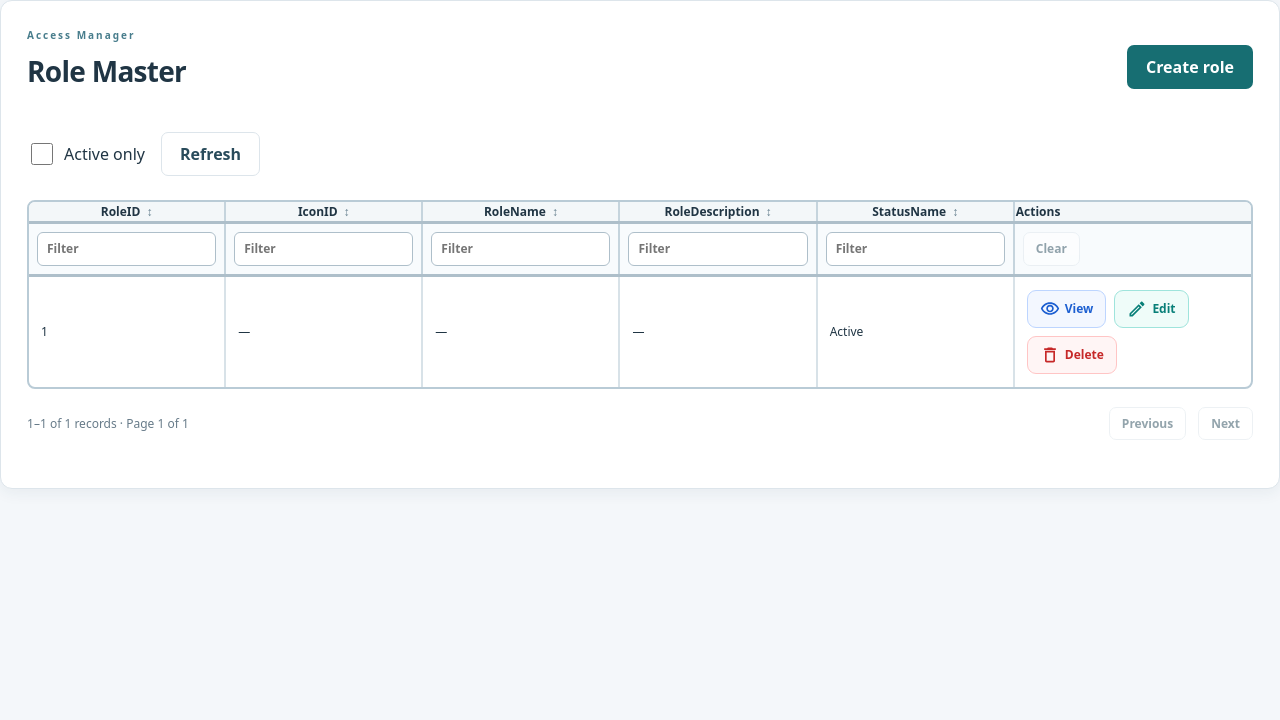
Test case: opens row details and dismisses the role popup
This screenshot has width=1280, height=720.
Click the button with aria-label "View role" at (1067, 308), box top-left (1027, 290), bottom-right (1106, 328)
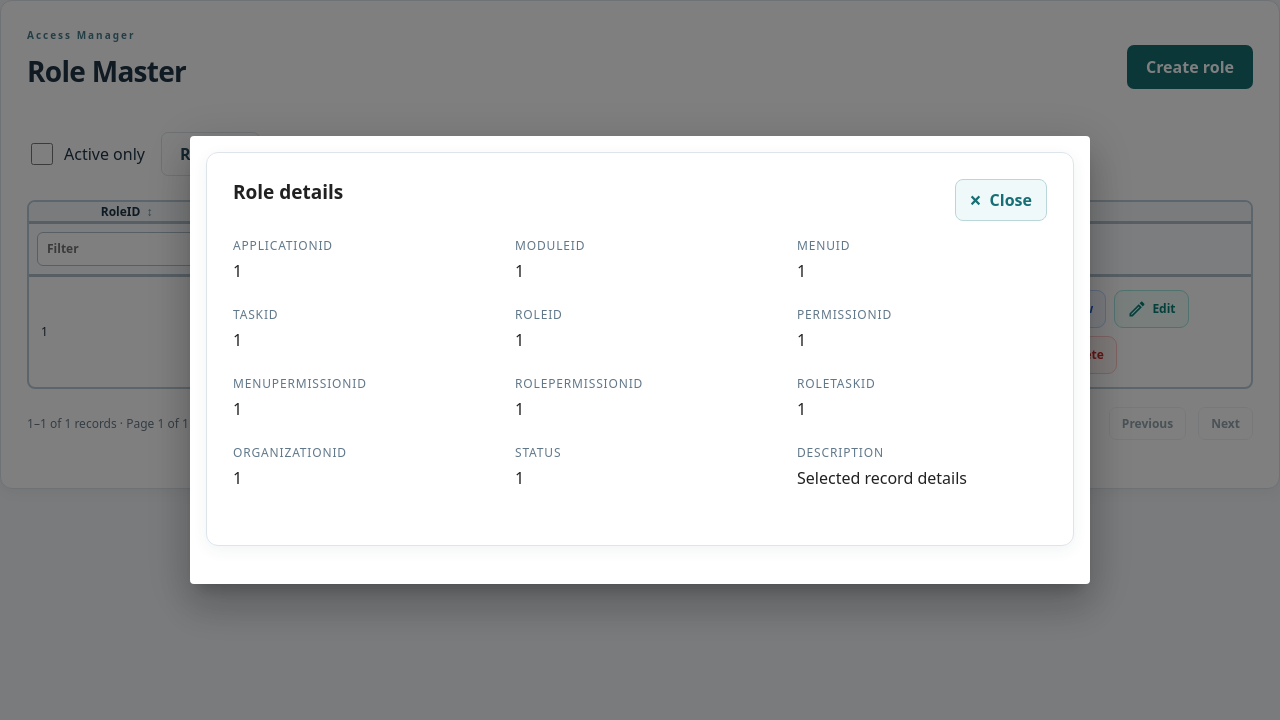
Check: the text "Selected record details" is shown, box top-left (797, 467), bottom-right (967, 489)
Click the button "Close" at (1001, 200), box top-left (955, 179), bottom-right (1047, 221)
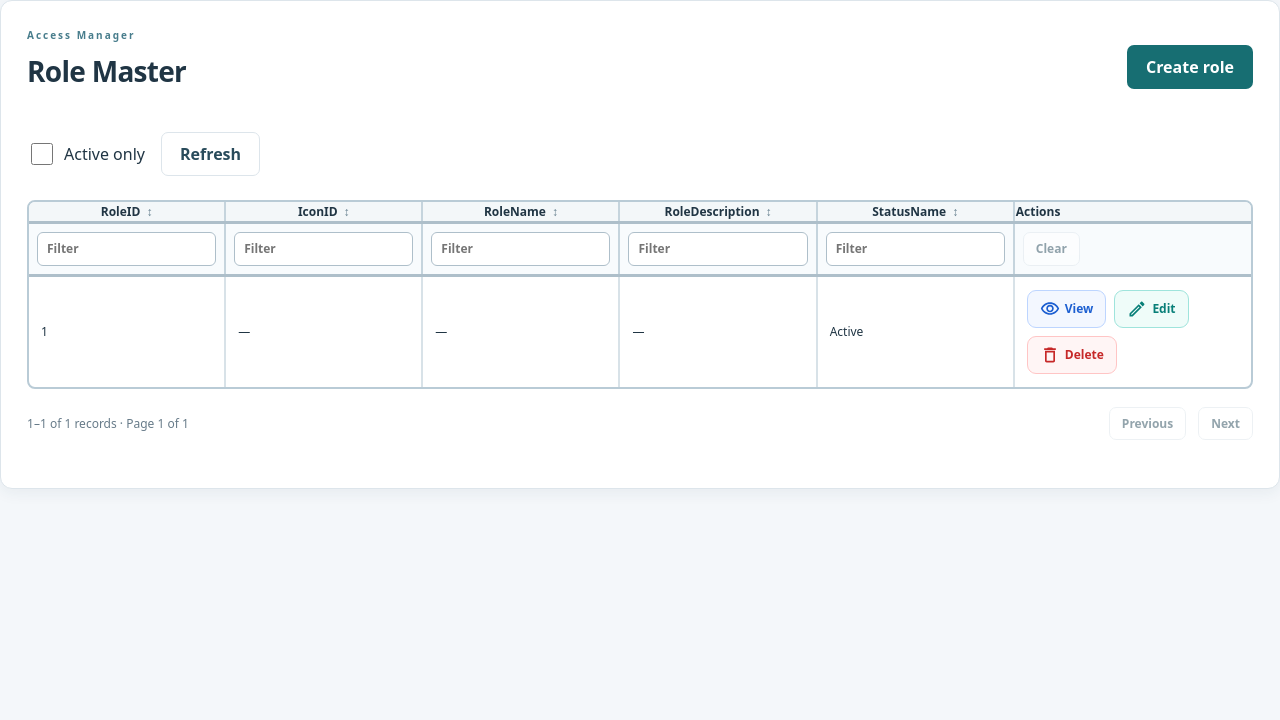
Check: the dialog is gone
Click the button with aria-label "View role" at (1067, 308), box top-left (1027, 290), bottom-right (1106, 328)
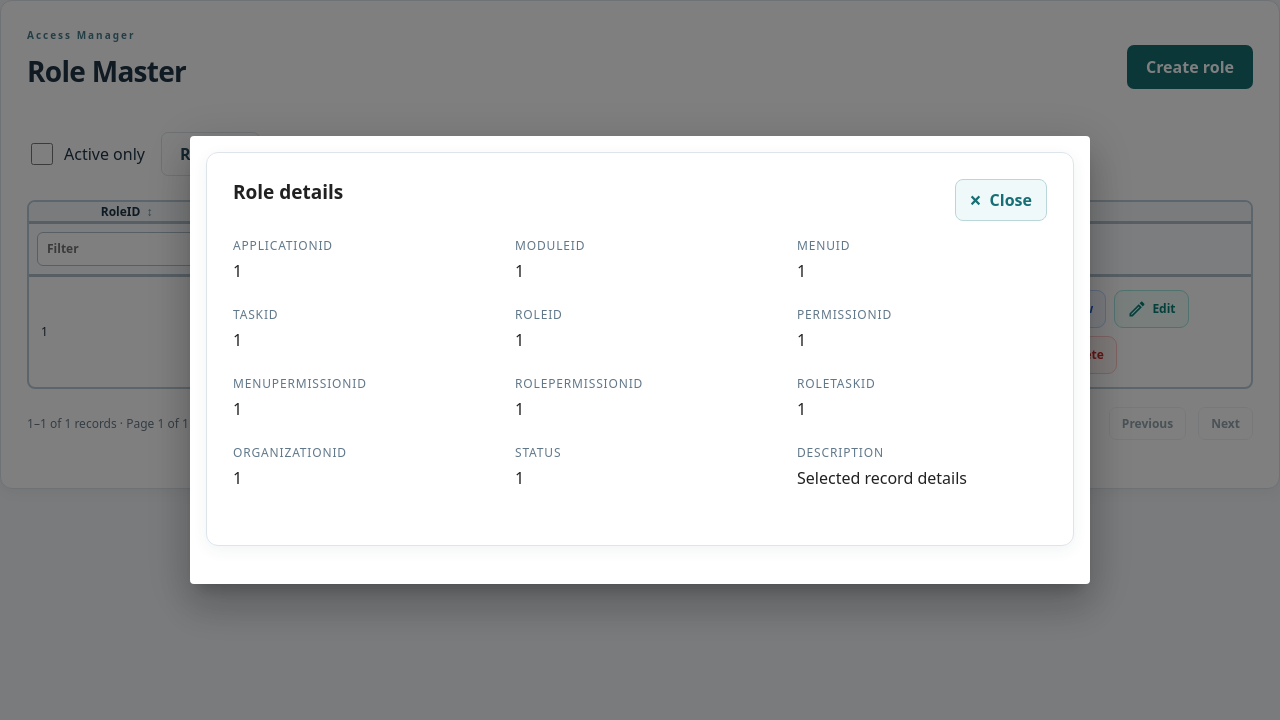
Press Escape in the dialog, box top-left (190, 136), bottom-right (1090, 584)
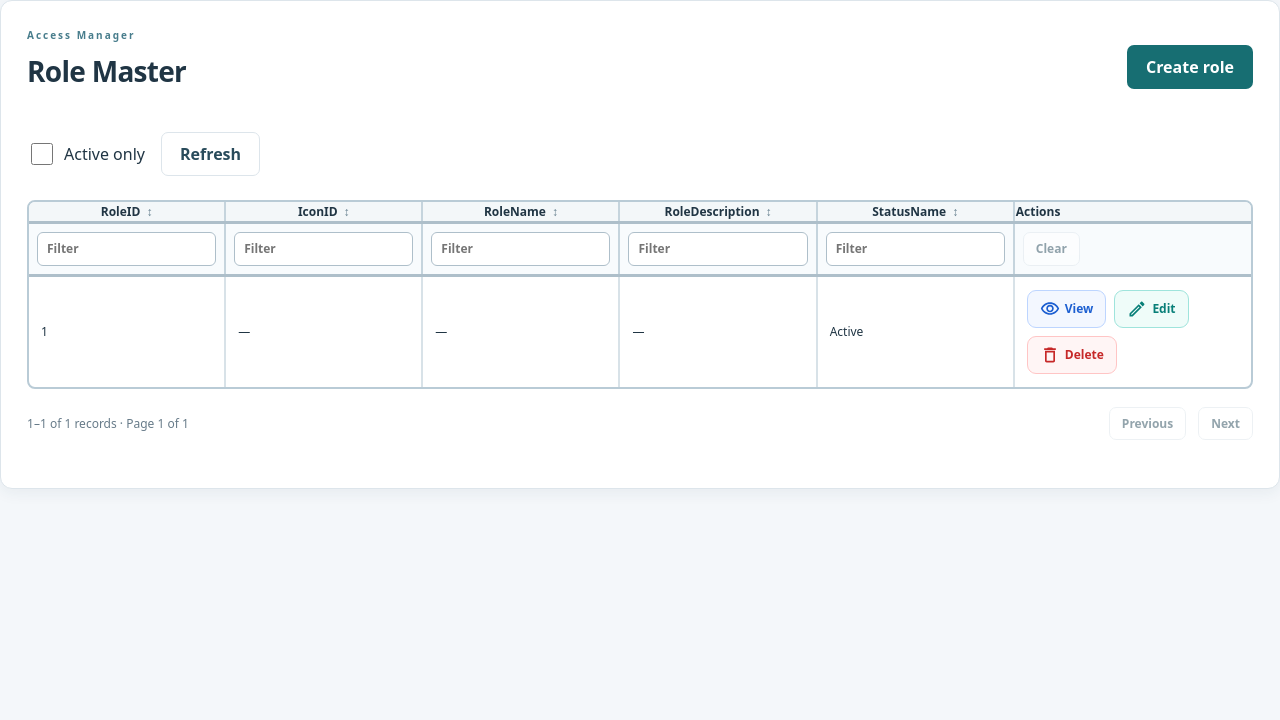
Check: the dialog is gone
